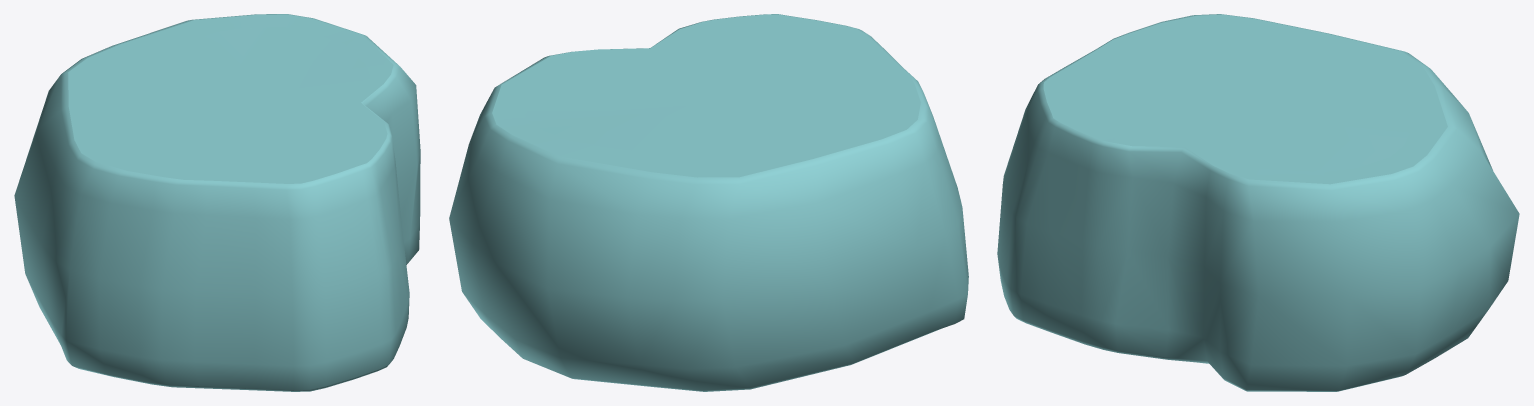
Rendered from elevation_test.fbx.
3 views of the same model, side by side, from view 1: azimuth 30°, elevation 25°; view 2: azimuth 150°, elevation 25°; view 3: azimuth 270°, elevation 25° (orthographic). The views are drawn at different scales.
Visible parts, largest first — view 1: Sphere014; view 2: Sphere014; view 3: Sphere014.
Part boxes in pixels (x1,y1,x2,y2): Sphere014: (14, 14, 420, 391); Sphere014: (449, 14, 968, 391); Sphere014: (997, 14, 1519, 391).
Bounding box in the file's own units: 1570 × 748 × 1732.
